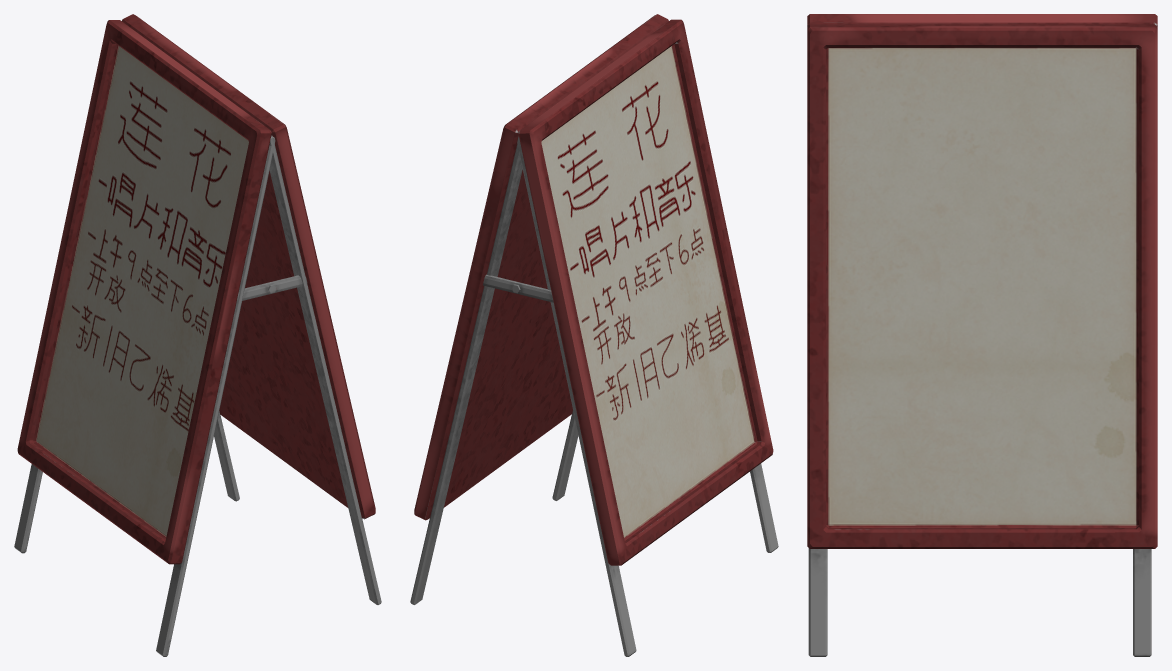
File: chinese_lettering_a-board_advertisement.glb
3 views of the same model, side by side, from view 1: azimuth 30°, elevation 25°; view 2: azimuth 150°, elevation 25°; view 3: azimuth 270°, elevation 25° (orthographic). The views are drawn at different scales.
Visible parts, largest first — view 1: polySurface5, polySurface1, polySurface4, polySurface7, polySurface6, polySurface8, polySurface3; view 2: polySurface5, polySurface1, polySurface8, polySurface6, polySurface7, polySurface4, polySurface10; view 3: polySurface1, polySurface5, polySurface4, polySurface8.
Part boxes in pixels (<box>): polySurface5: <box>17,20,271,564</box>; polySurface1: <box>122,14,375,519</box>; polySurface4: <box>269,136,381,604</box>; polySurface7: <box>156,135,275,656</box>; polySurface6: <box>14,464,42,553</box>; polySurface8: <box>214,411,239,501</box>; polySurface3: <box>236,275,307,301</box>; polySurface5: <box>518,19,773,565</box>; polySurface1: <box>414,14,668,520</box>; polySurface8: <box>410,139,522,604</box>; polySurface6: <box>517,136,636,656</box>; polySurface7: <box>750,463,778,552</box>; polySurface4: <box>552,410,578,500</box>; polySurface10: <box>483,274,553,302</box>; polySurface1: <box>807,24,1157,548</box>; polySurface5: <box>807,14,1157,26</box>; polySurface4: <box>808,548,827,656</box>; polySurface8: <box>1133,549,1151,656</box>.
Bounding box in the file's own units: 1.18 × 2.59 × 1.43.
Materials: 1 (1 with a texture image).
